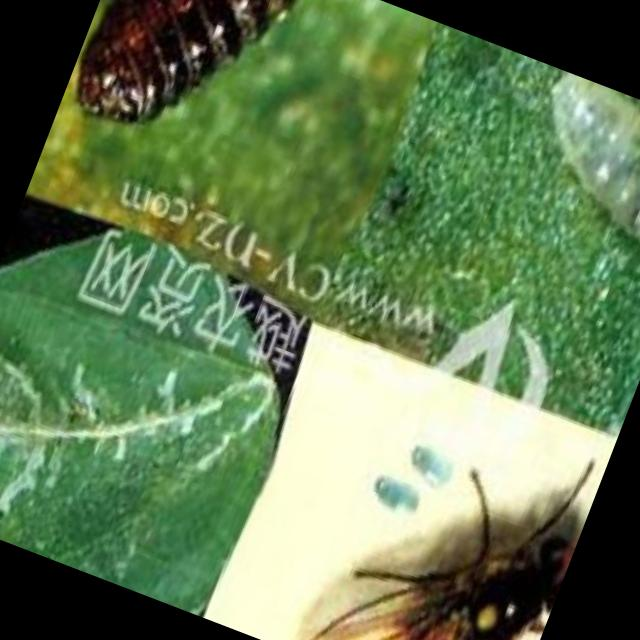whorl-maggot: (59, 0, 339, 194), (495, 64, 640, 269)
